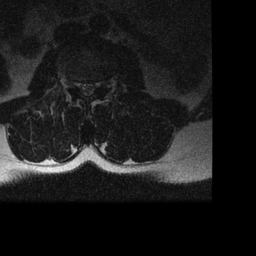CCS_severe_stenosis: (84, 77, 89, 102)
LFS_normal: (96, 75, 102, 93)
LLS_stenosis: (89, 77, 96, 94)
RFS_stenosis: (70, 75, 77, 94)
RLS_stenosis: (78, 77, 84, 95)
